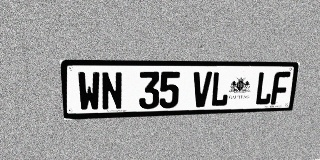3: (139, 72, 160, 109)
5: (159, 72, 180, 108)
F: (270, 72, 291, 105)
L: (210, 72, 230, 107), (254, 72, 274, 105)
N: (101, 72, 123, 110)
V: (192, 72, 212, 107)
W: (77, 72, 101, 111)
